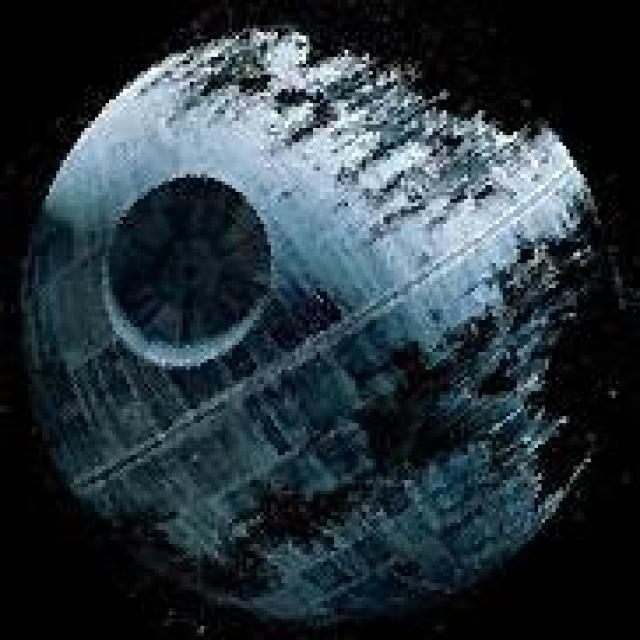Death Star: (11, 15, 616, 630)
